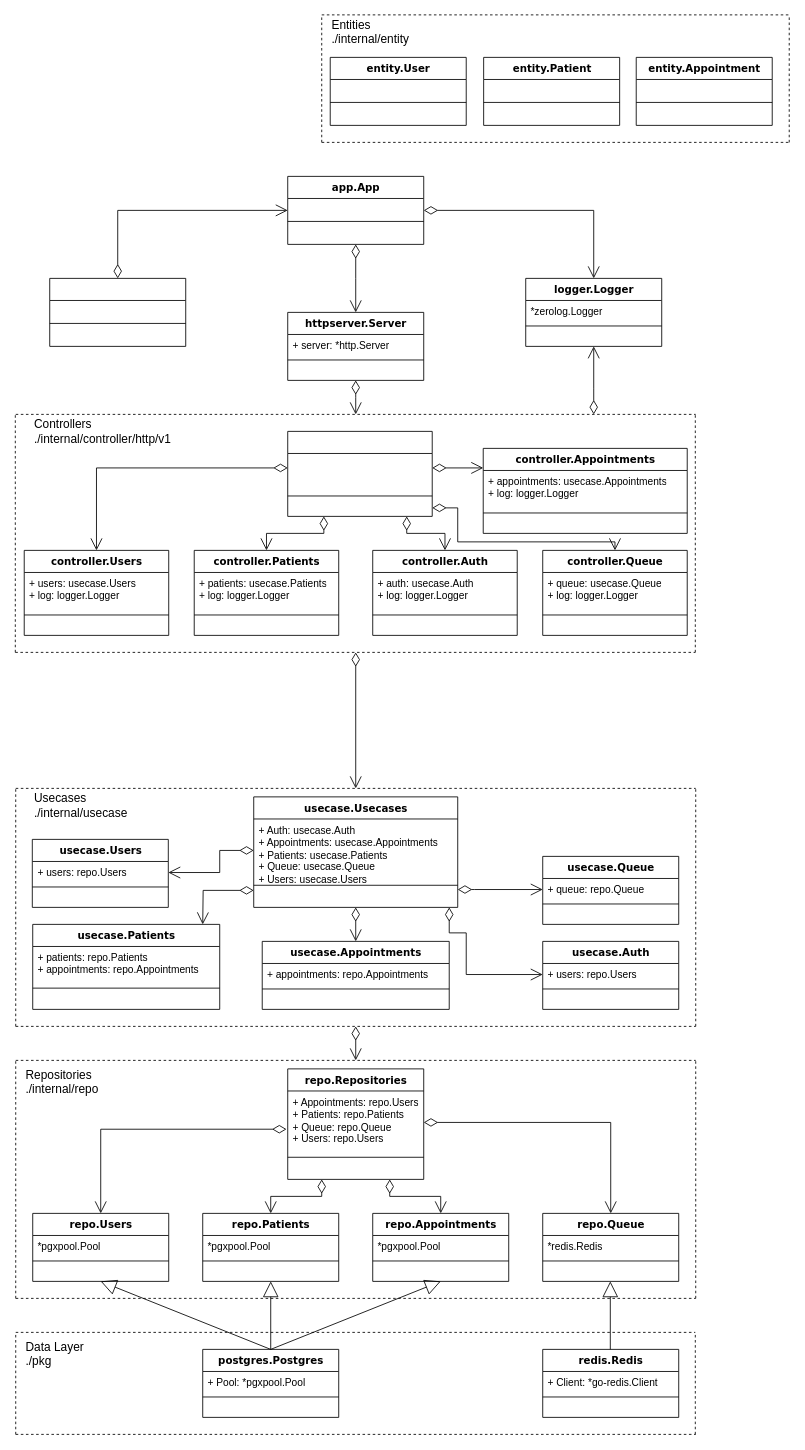
Some shapes in this 805 by 1450 pixel diagram are drawn without their labels. Each missing label, with the centre of its shape:
"config.Config" goes at (x=117, y=312).
"controller.Router" goes at (x=359, y=473).
